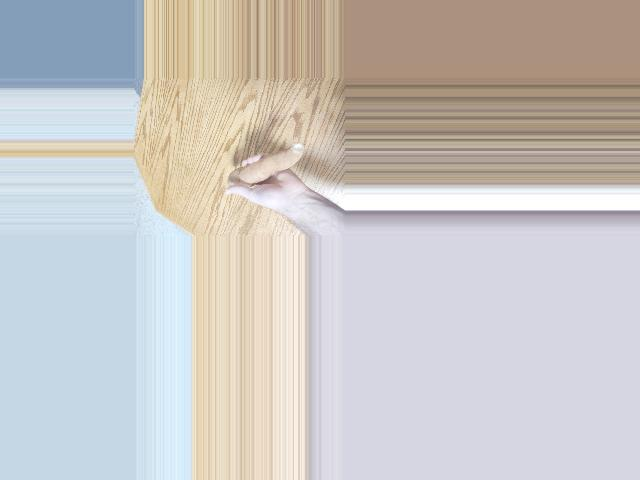sweet_potato: (231, 143, 307, 185)
